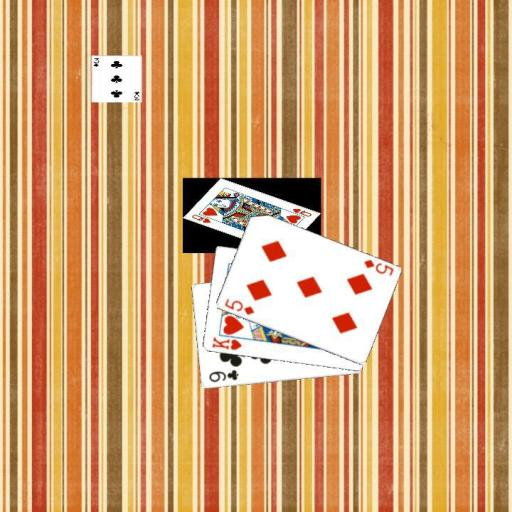5D: (221, 295, 255, 317), (361, 256, 395, 277)
9C: (206, 367, 240, 384)
KH: (209, 334, 243, 352)
